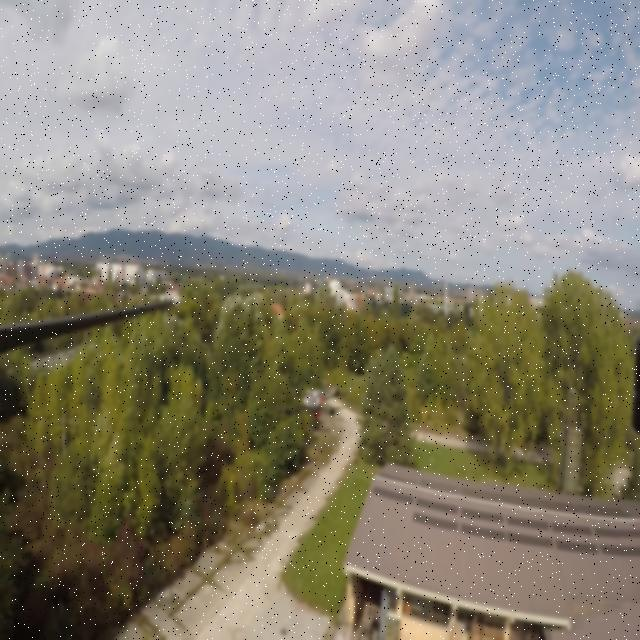UAV: (278, 386, 348, 452)
